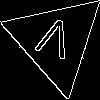V: (31, 15, 76, 69)
